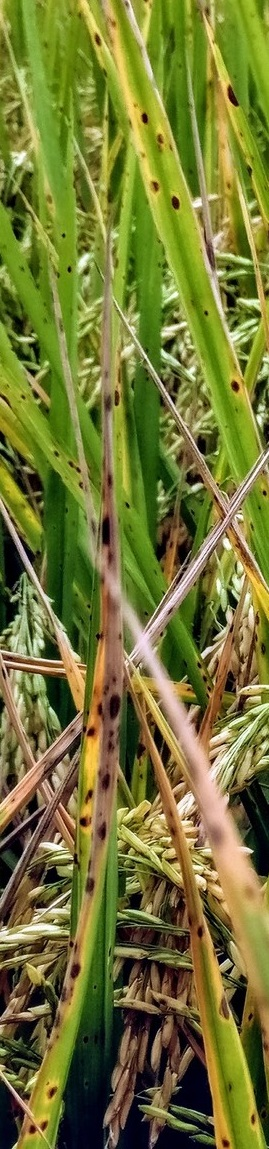Bercak Coklat: (222, 78, 243, 117), (212, 989, 233, 1027), (161, 189, 187, 213), (222, 373, 243, 401), (40, 1081, 63, 1104), (133, 104, 155, 128), (192, 916, 207, 949), (75, 807, 95, 831), (87, 29, 108, 51), (79, 785, 98, 807), (197, 301, 214, 325), (35, 1113, 52, 1137), (144, 177, 164, 196), (246, 1107, 261, 1130), (65, 457, 82, 477), (217, 1134, 234, 1149), (79, 1027, 91, 1048), (23, 1125, 41, 1138)
